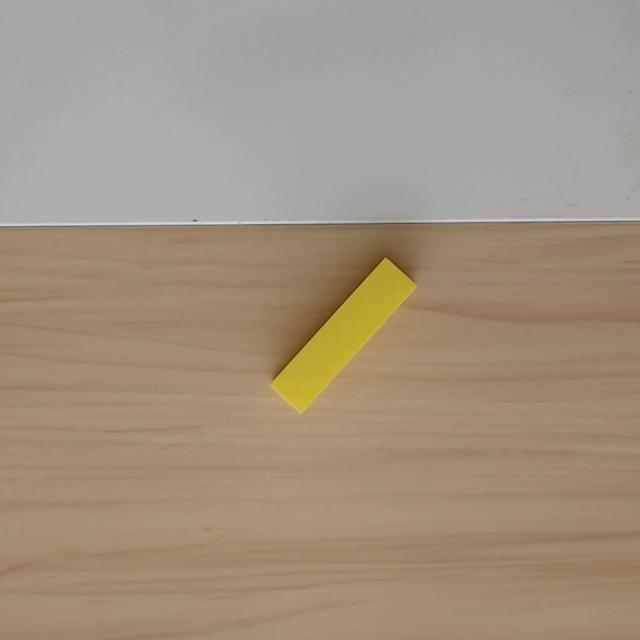Balok-Kuning-1002525: (267, 256, 418, 414)
